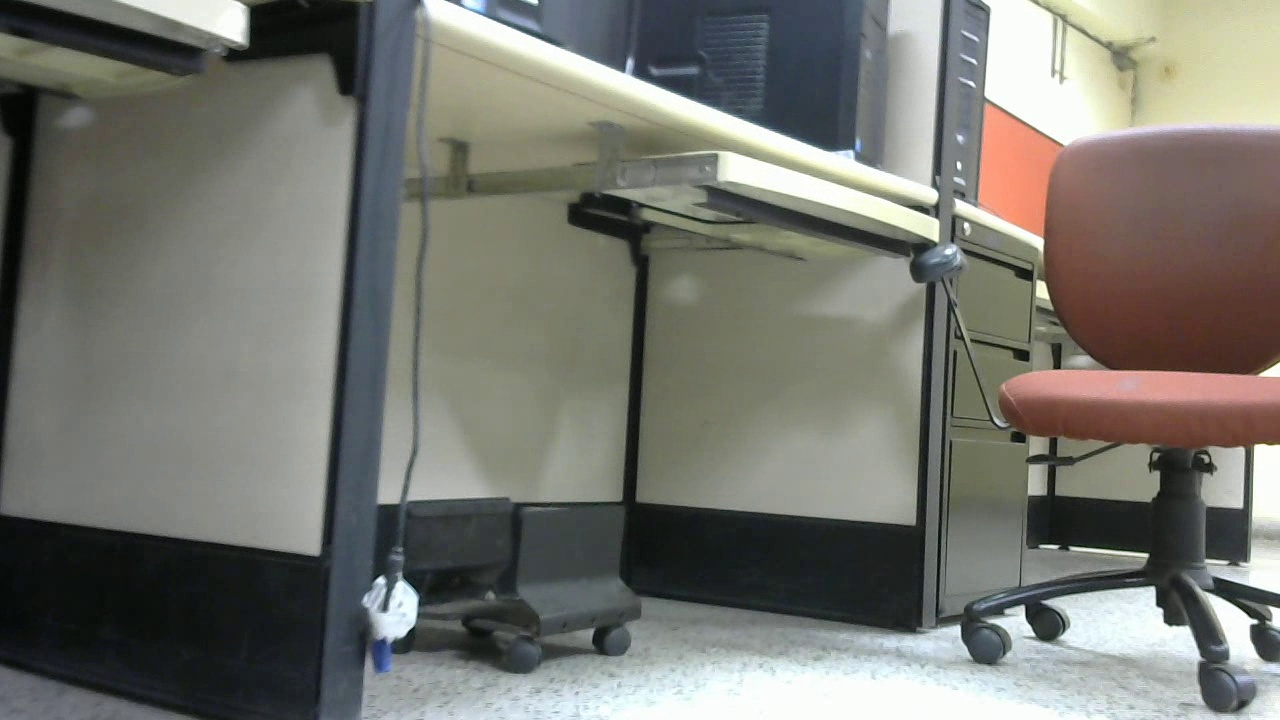chair: (913, 123, 1280, 711)
